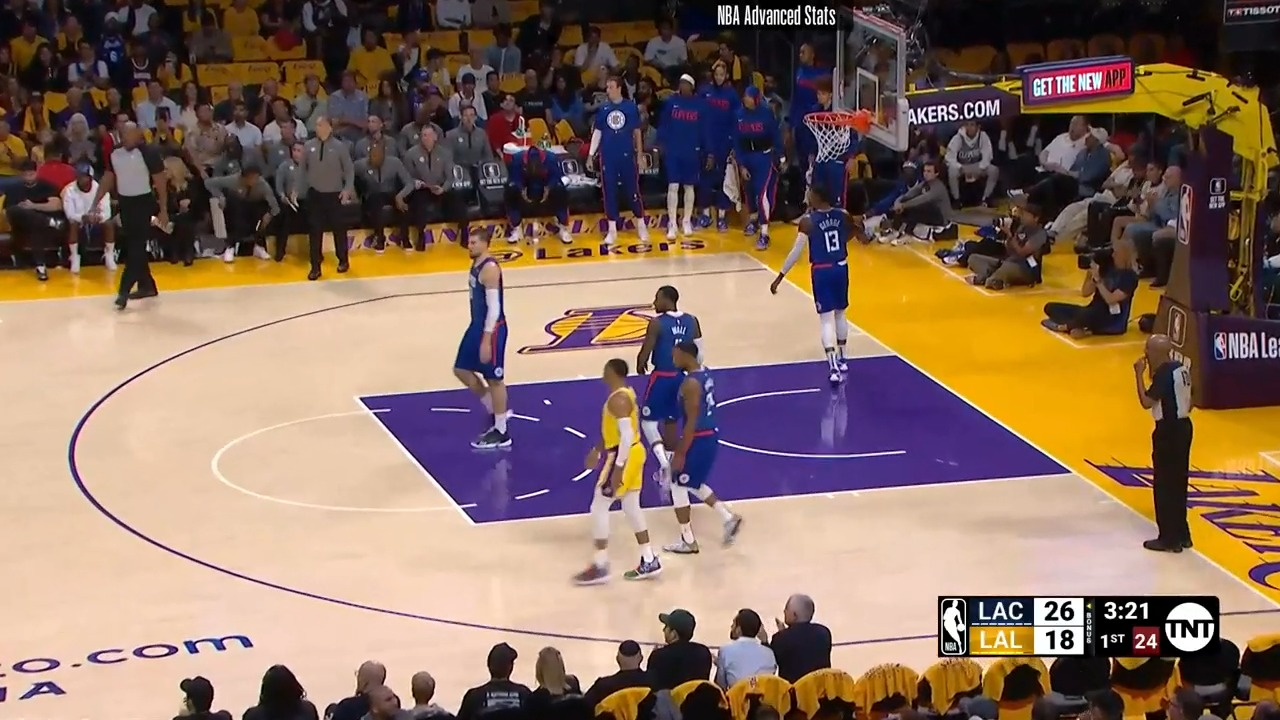net: (807, 103, 881, 167)
player: (635, 341, 746, 558), (571, 354, 662, 591), (773, 186, 857, 390), (440, 221, 510, 451), (638, 283, 709, 490)
referee: (1131, 303, 1199, 559), (105, 106, 178, 320)
